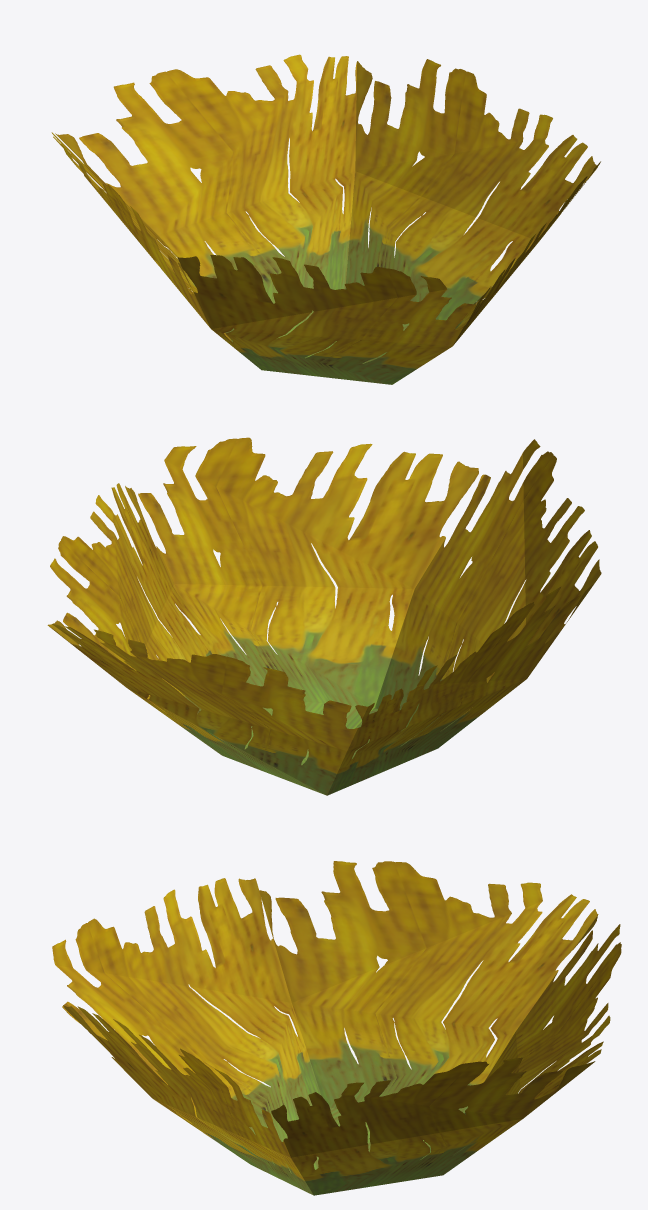
The picture shows the model from 3 angles, top to bottom: view 1: azimuth 30°, elevation 25°; view 2: azimuth 150°, elevation 25°; view 3: azimuth 270°, elevation 25°; orthographic projection. The views are drawn at different scales.
Visible parts, largest first — view 1: BT_3_F_1_1; view 2: BT_3_F_1_1; view 3: BT_3_F_1_1.
Part boxes in pixels (x1,y1,x2,y2): BT_3_F_1_1: (51, 54, 600, 384); BT_3_F_1_1: (47, 437, 601, 795); BT_3_F_1_1: (52, 861, 621, 1195).
Size of the model in its own units: 5.87 by 2.81 by 6.44.
1 material, 1 textured.
